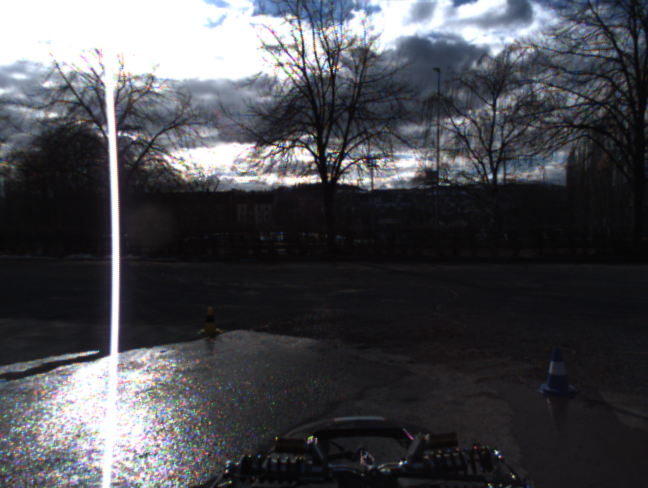cone-small-blue: (537, 347, 579, 396)
cone-small-yellow: (197, 306, 223, 335)
